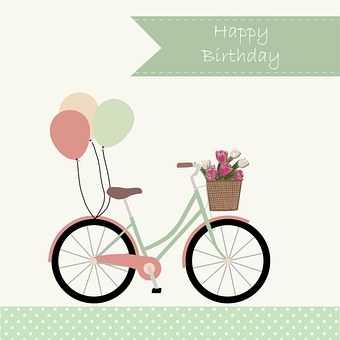bicycle: (46, 160, 270, 299)
